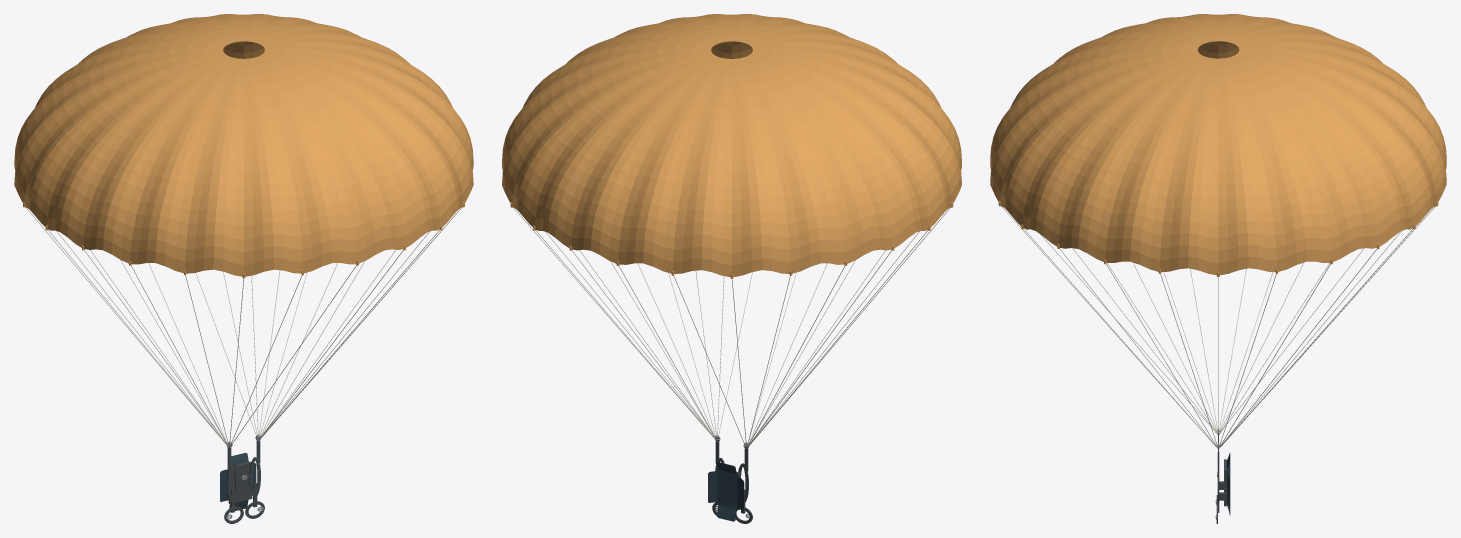
3 renders of one model, left to right at view 1: azimuth 30°, elevation 25°; view 2: azimuth 150°, elevation 25°; view 3: azimuth 270°, elevation 25°, orthographic.
Visible parts, largest first — view 1: Complete double-wall 24-gore canopy, Back_pad; view 2: Complete double-wall 24-gore canopy, Pack_lining; view 3: Complete double-wall 24-gore canopy.
Part boxes in pixels (x1,y1,x2,y2): Complete double-wall 24-gore canopy: (14, 14, 473, 276); Back_pad: (228, 461, 252, 504); Complete double-wall 24-gore canopy: (502, 14, 961, 276); Pack_lining: (716, 468, 738, 509); Complete double-wall 24-gore canopy: (990, 14, 1446, 275).
Size of the model in its own units: 6.06 by 6.85 by 6.06.
